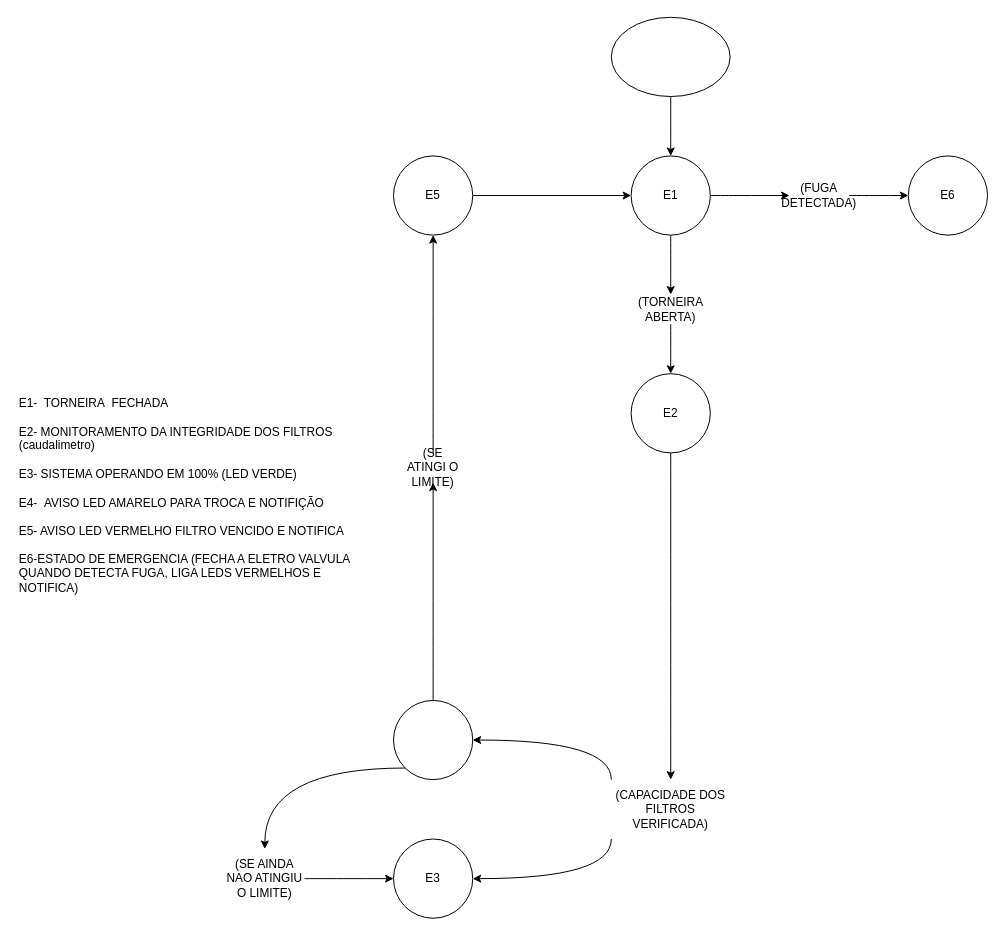
Image size: 1005x936. Some labels were removed from this diagram. Each missing label, with the box of its shape:
E4: (393, 699, 473, 780)
INICIO: (610, 16, 730, 97)
